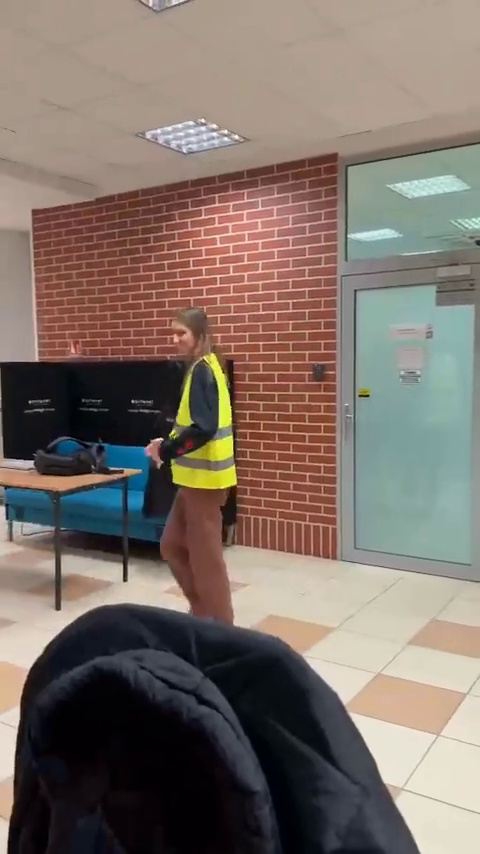vest: (151, 298, 260, 610)
